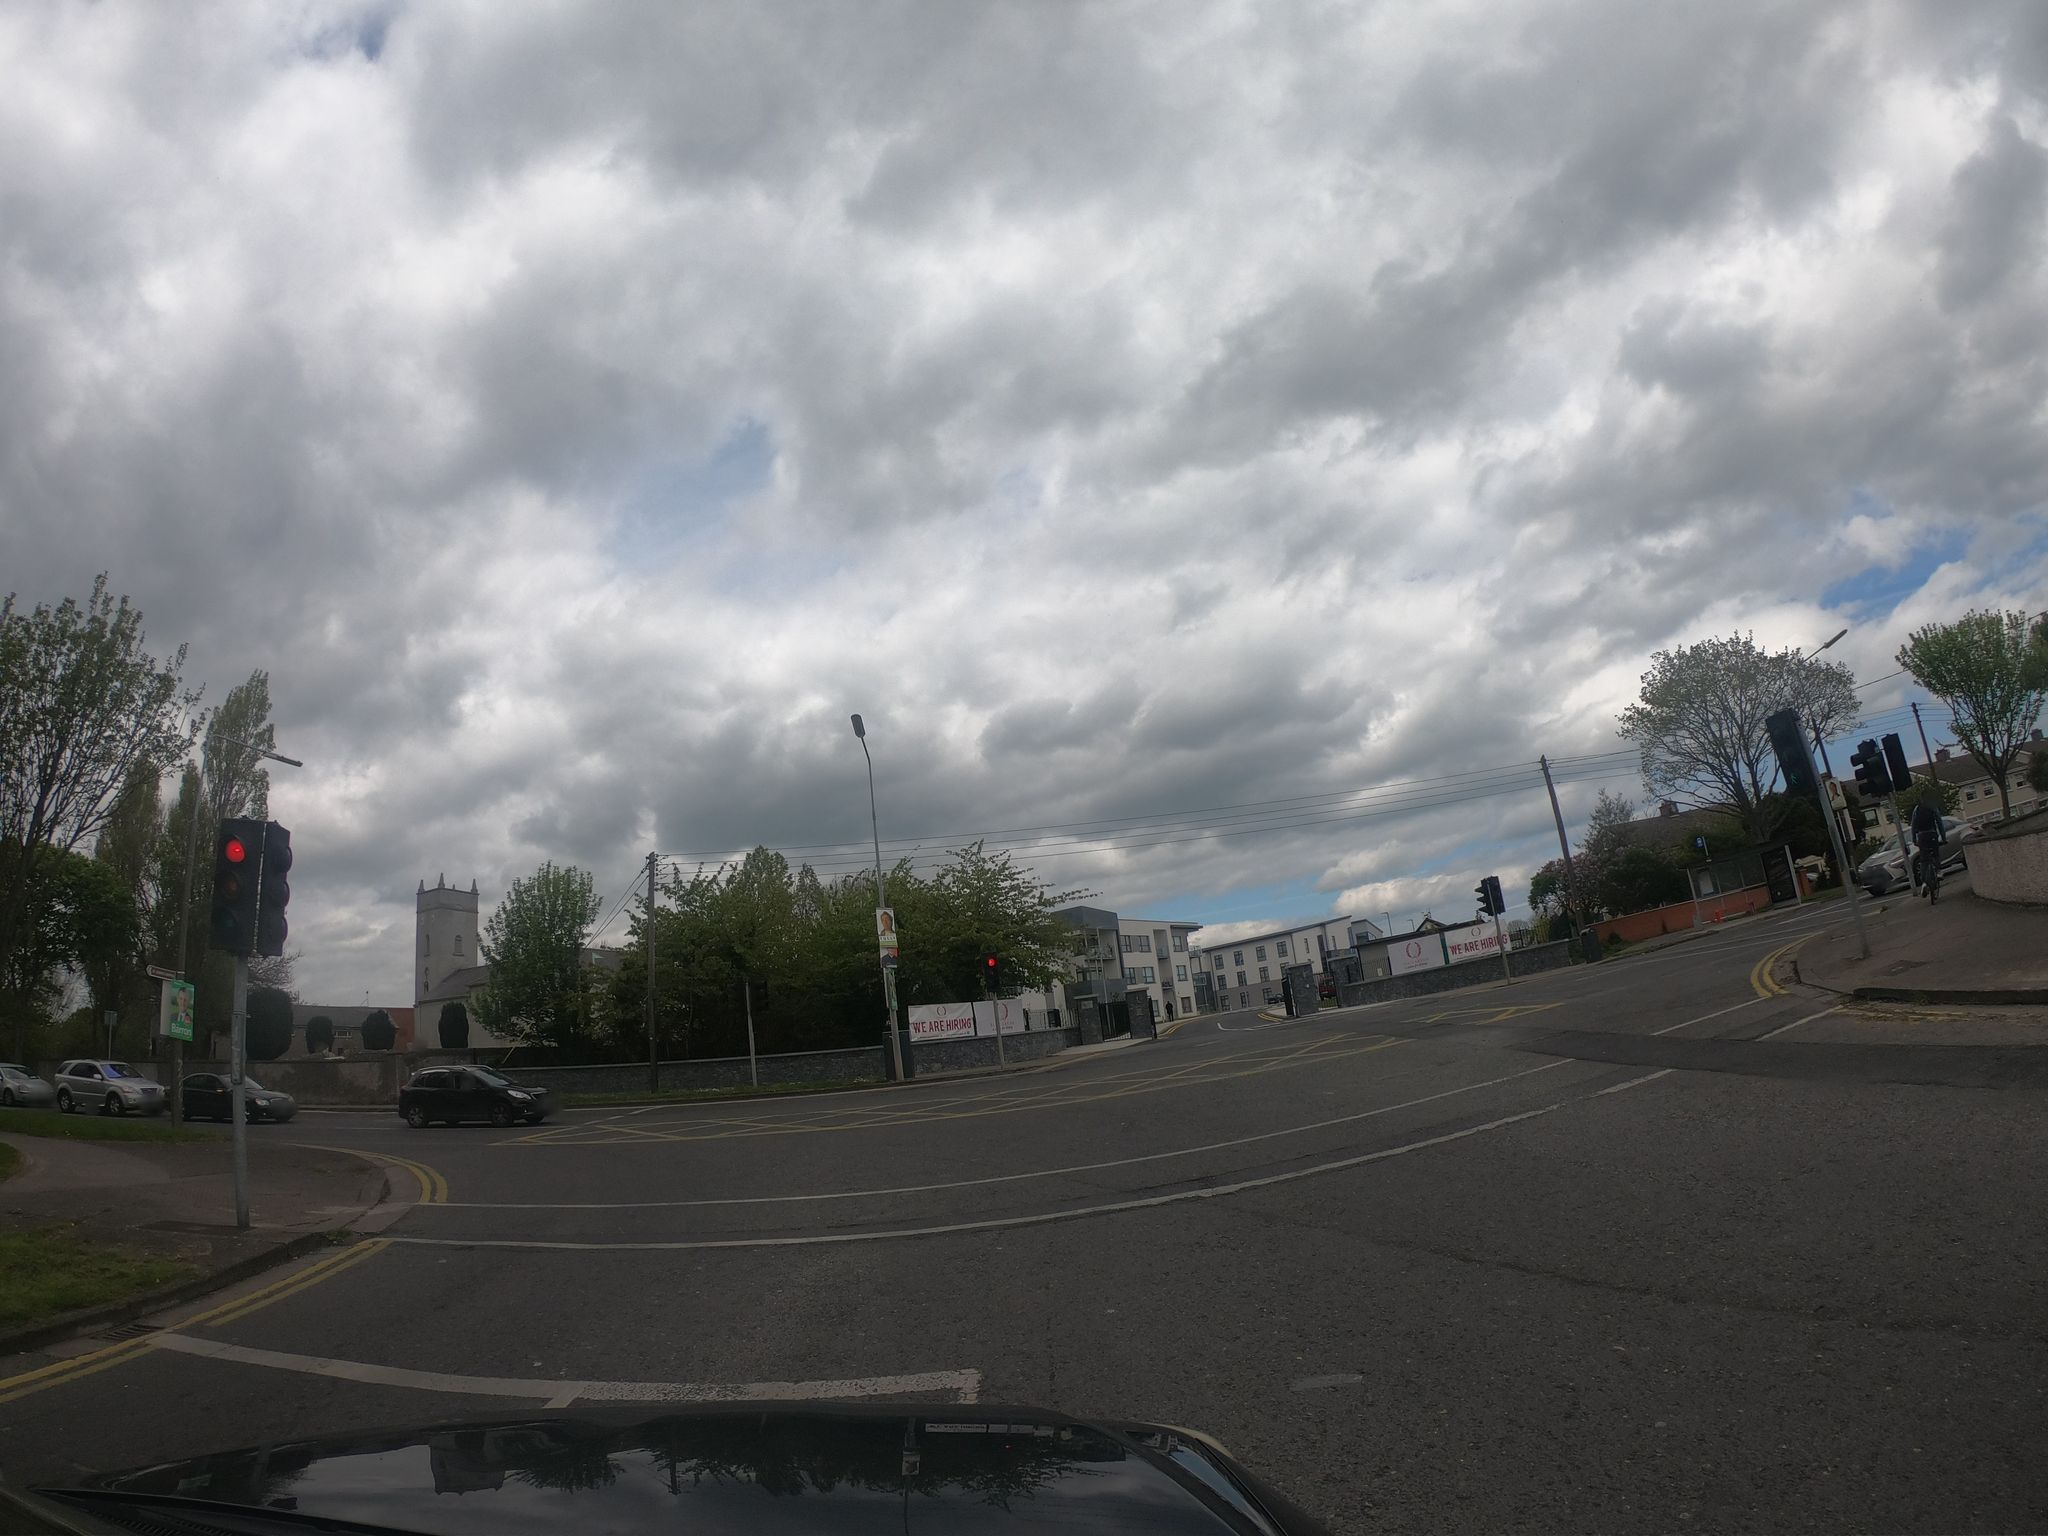vinyl banner: (898, 981, 989, 1050), (1438, 918, 1517, 963)
